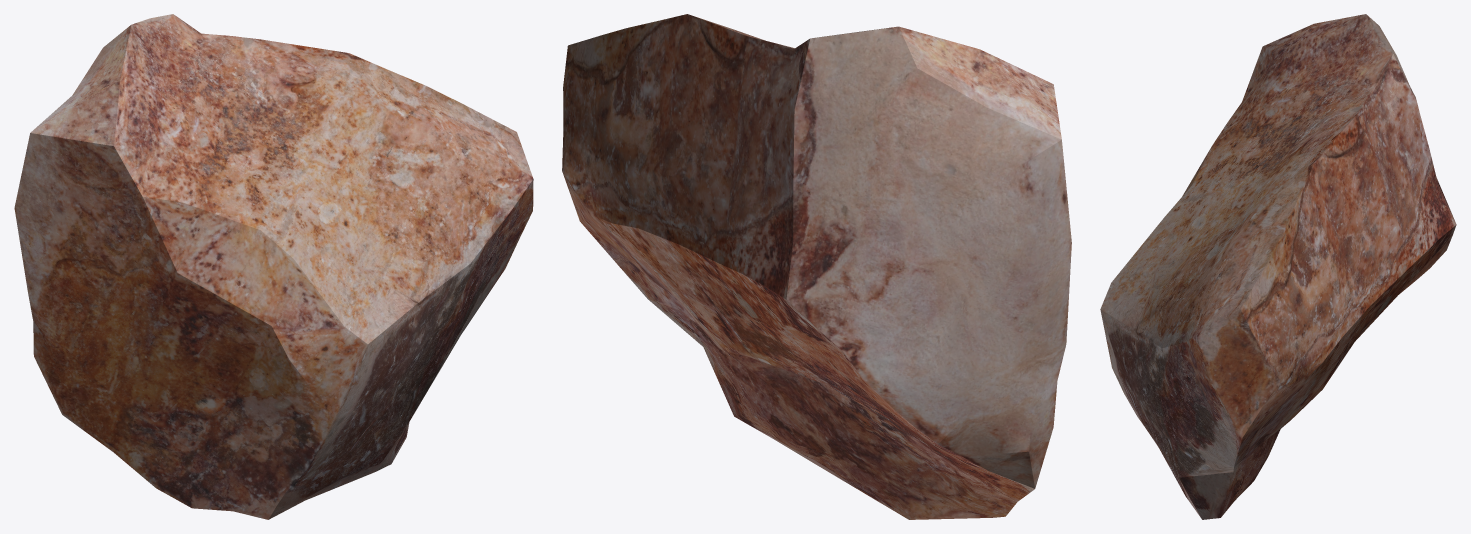
The model's file is Roccia6.fbx.
3 renders of one model, left to right at view 1: azimuth 30°, elevation 25°; view 2: azimuth 150°, elevation 25°; view 3: azimuth 270°, elevation 25°, orthographic. The views are drawn at different scales.
Parts seen in each view (by area): view 1: Rock_002_LP; view 2: Rock_002_LP; view 3: Rock_002_LP.
Part boxes in pixels (x1,y1,x2,y2): Rock_002_LP: [14, 14, 533, 519]; Rock_002_LP: [562, 14, 1071, 519]; Rock_002_LP: [1100, 14, 1456, 519].
Bounding box in the file's own units: 148 × 140 × 103.
